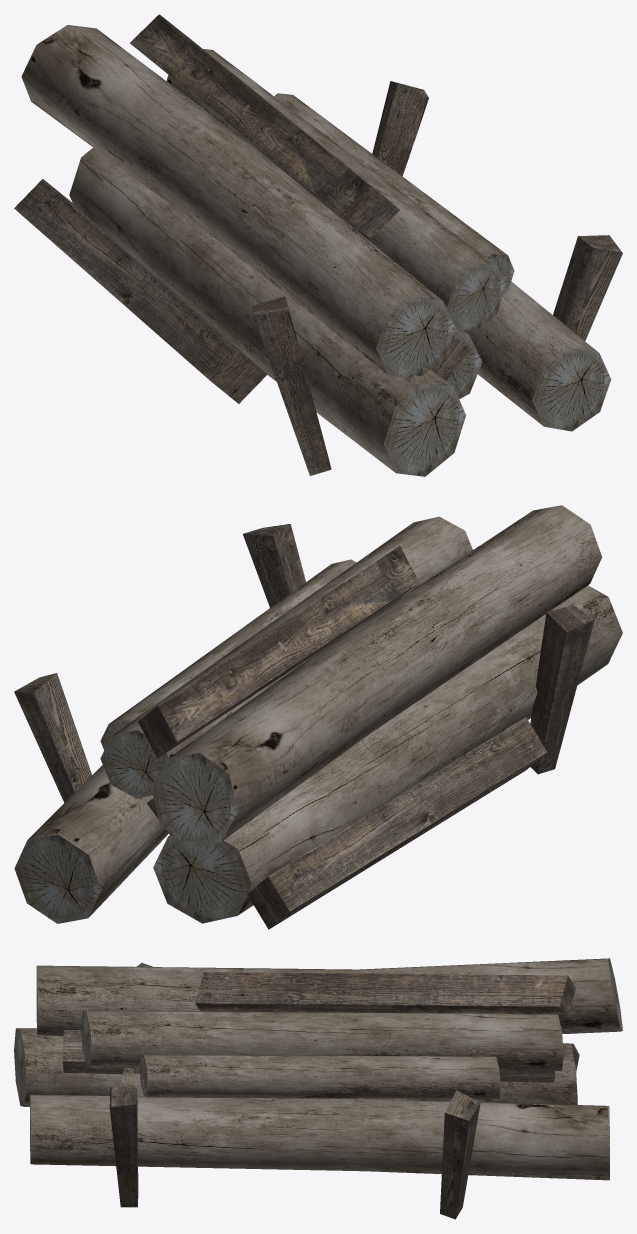
Rendered from Woodpile_LOD01.fbx.
3 renders of one model, top to bottom at view 1: azimuth 30°, elevation 25°; view 2: azimuth 150°, elevation 25°; view 3: azimuth 270°, elevation 25°, orthographic. The views are drawn at different scales.
Visible parts, largest first — view 1: Mesh Object; view 2: Mesh Object; view 3: Mesh Object.
Boxes of the visible parts, <box> form: Mesh Object: <box>14,14,622,476</box>; Mesh Object: <box>14,505,622,929</box>; Mesh Object: <box>14,958,622,1219</box>.
Bounding box in the file's own units: 0.7852 × 0.4714 × 1.37.
